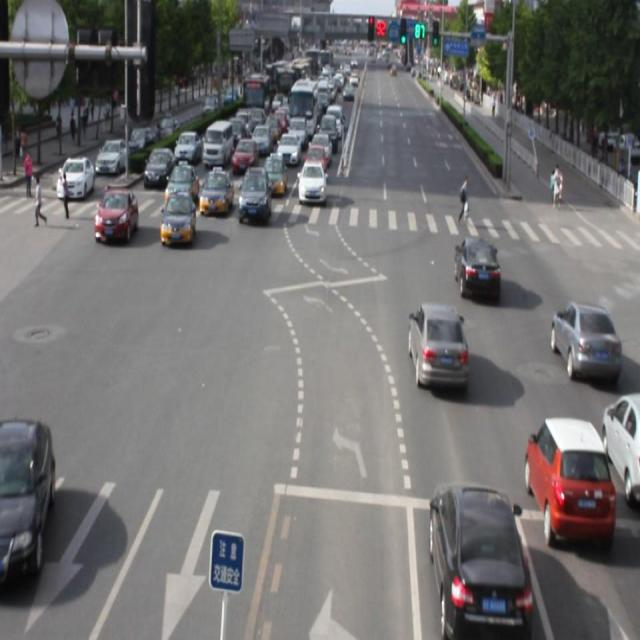car: (428, 480, 528, 640), (524, 415, 614, 547), (1, 418, 53, 583), (550, 301, 618, 384), (407, 303, 468, 390), (602, 392, 640, 508), (454, 236, 499, 302), (160, 193, 195, 247), (238, 167, 270, 222), (198, 168, 232, 218)
